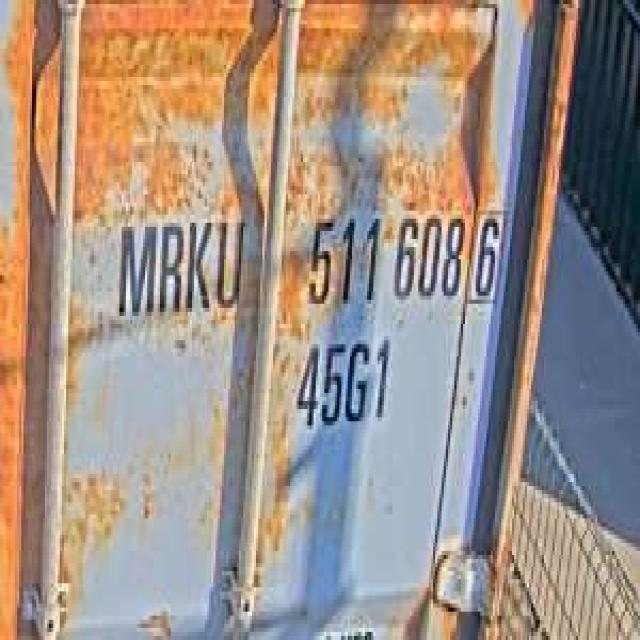dv: (467, 198, 508, 308)
owner: (113, 203, 245, 324)
serial: (301, 198, 465, 316)
size: (292, 328, 395, 434)
